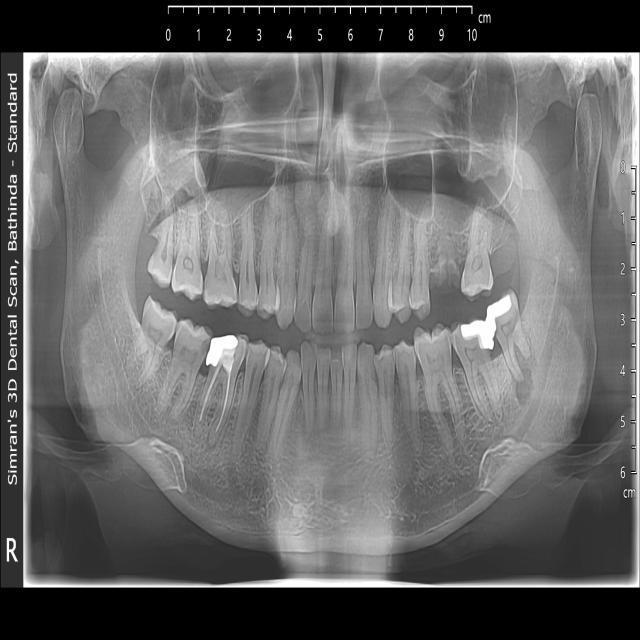dolgu: (454, 313, 494, 359), (475, 287, 520, 326), (208, 327, 245, 371)
kanal-tedavisi: (195, 366, 238, 429)
kok-enfeksiyonu: (507, 364, 541, 412)
